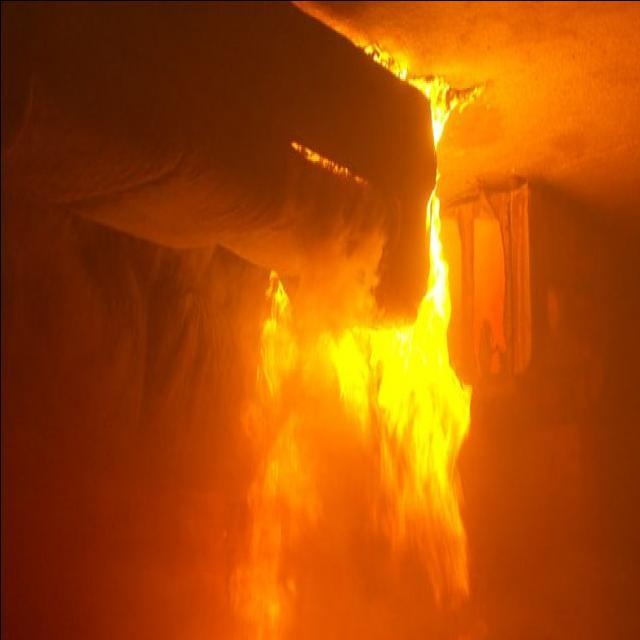Fire: (240, 55, 474, 608)
